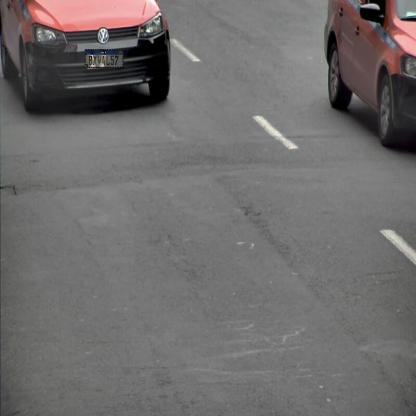PlacaM: (85, 49, 123, 68)
